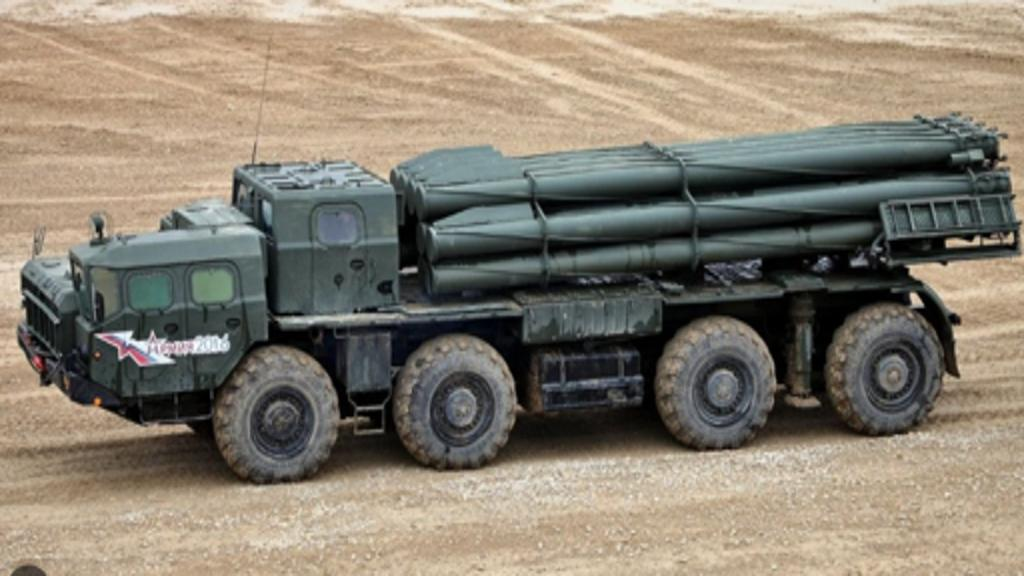MLRS: (4, 114, 1006, 490)
